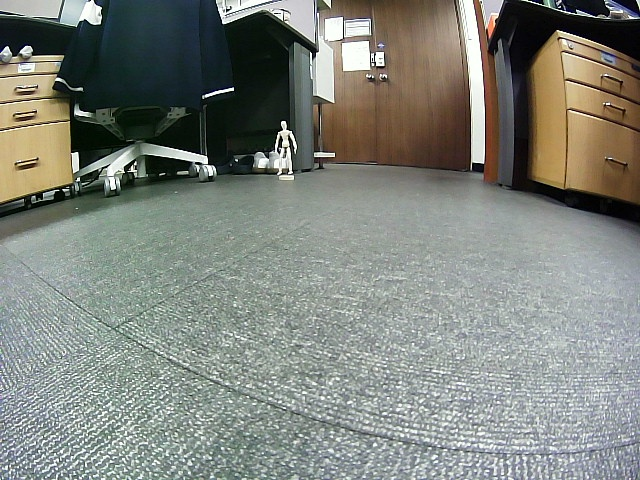person: (275, 121, 297, 176)
